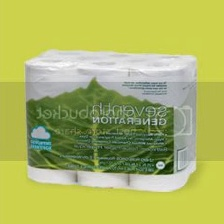tissue: (18, 42, 203, 196)
